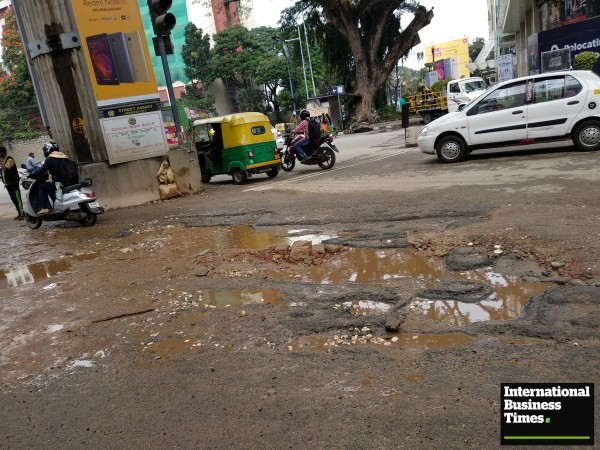pothole: (20, 197, 546, 394)
